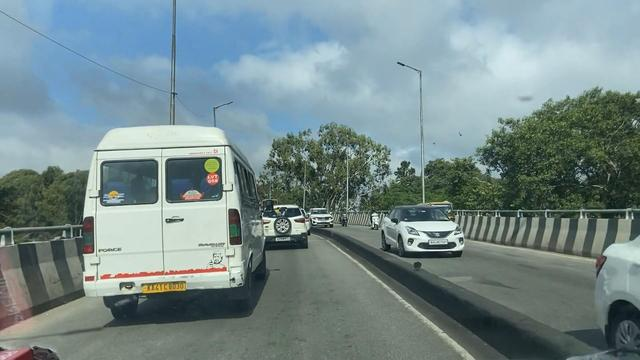HMV: (78, 125, 262, 313)
LMV: (264, 205, 308, 249)
